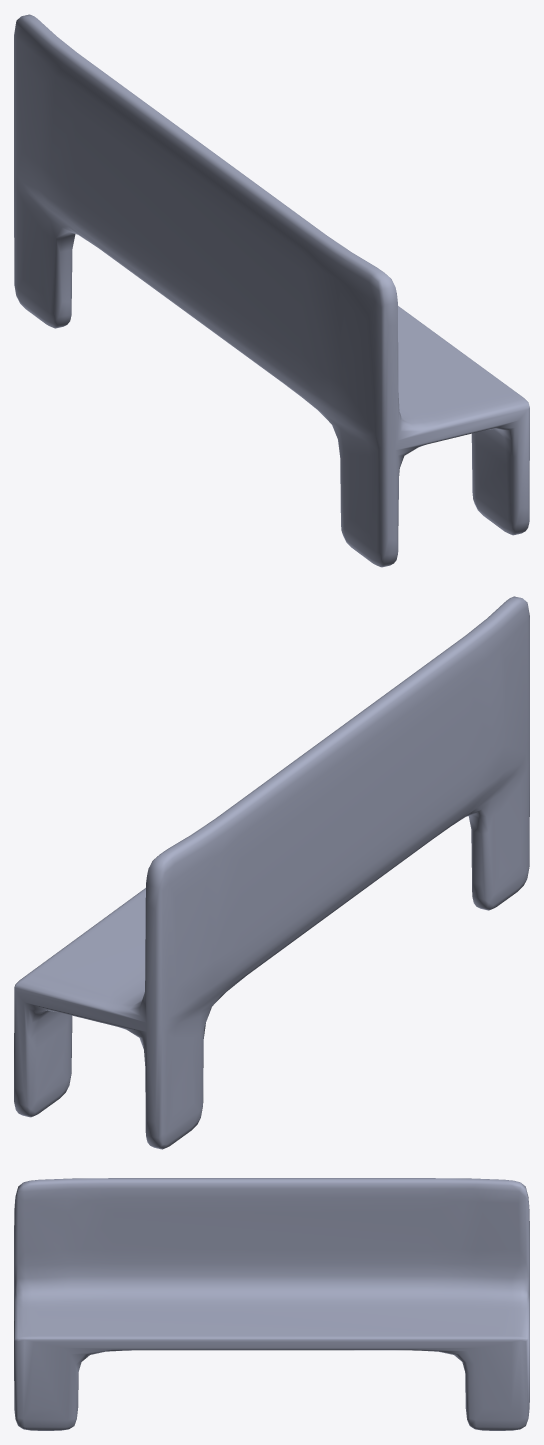
The model's file is Bench.fbx.
3 views of the same model, one above another, from view 1: azimuth 30°, elevation 25°; view 2: azimuth 150°, elevation 25°; view 3: azimuth 270°, elevation 25° (orthographic). The views are drawn at different scales.
Parts seen in each view (by area): view 1: Cube; view 2: Cube; view 3: Cube.
Boxes of the visible parts, x1,y1,x2,y2 form: Cube: [14, 14, 529, 567]; Cube: [14, 596, 529, 1149]; Cube: [14, 1178, 529, 1430].
Size of the model in its own units: 26.3 by 46.8 by 107.
